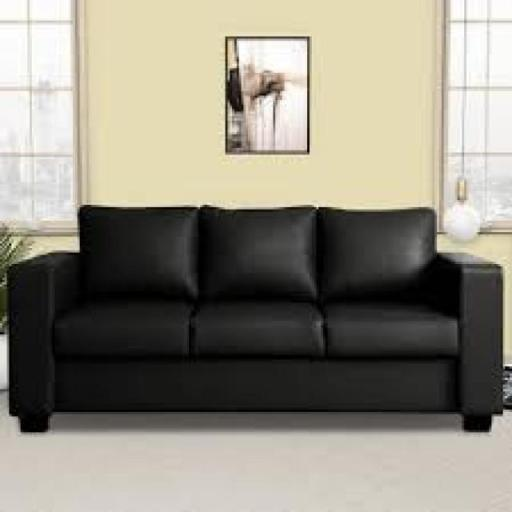sofa: (0, 184, 512, 495)
